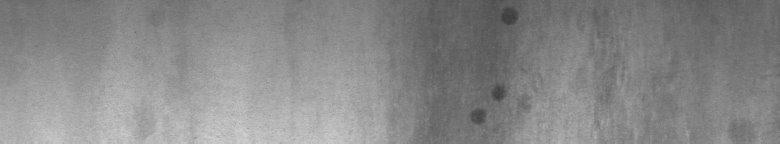fi: (470, 4, 532, 132)
